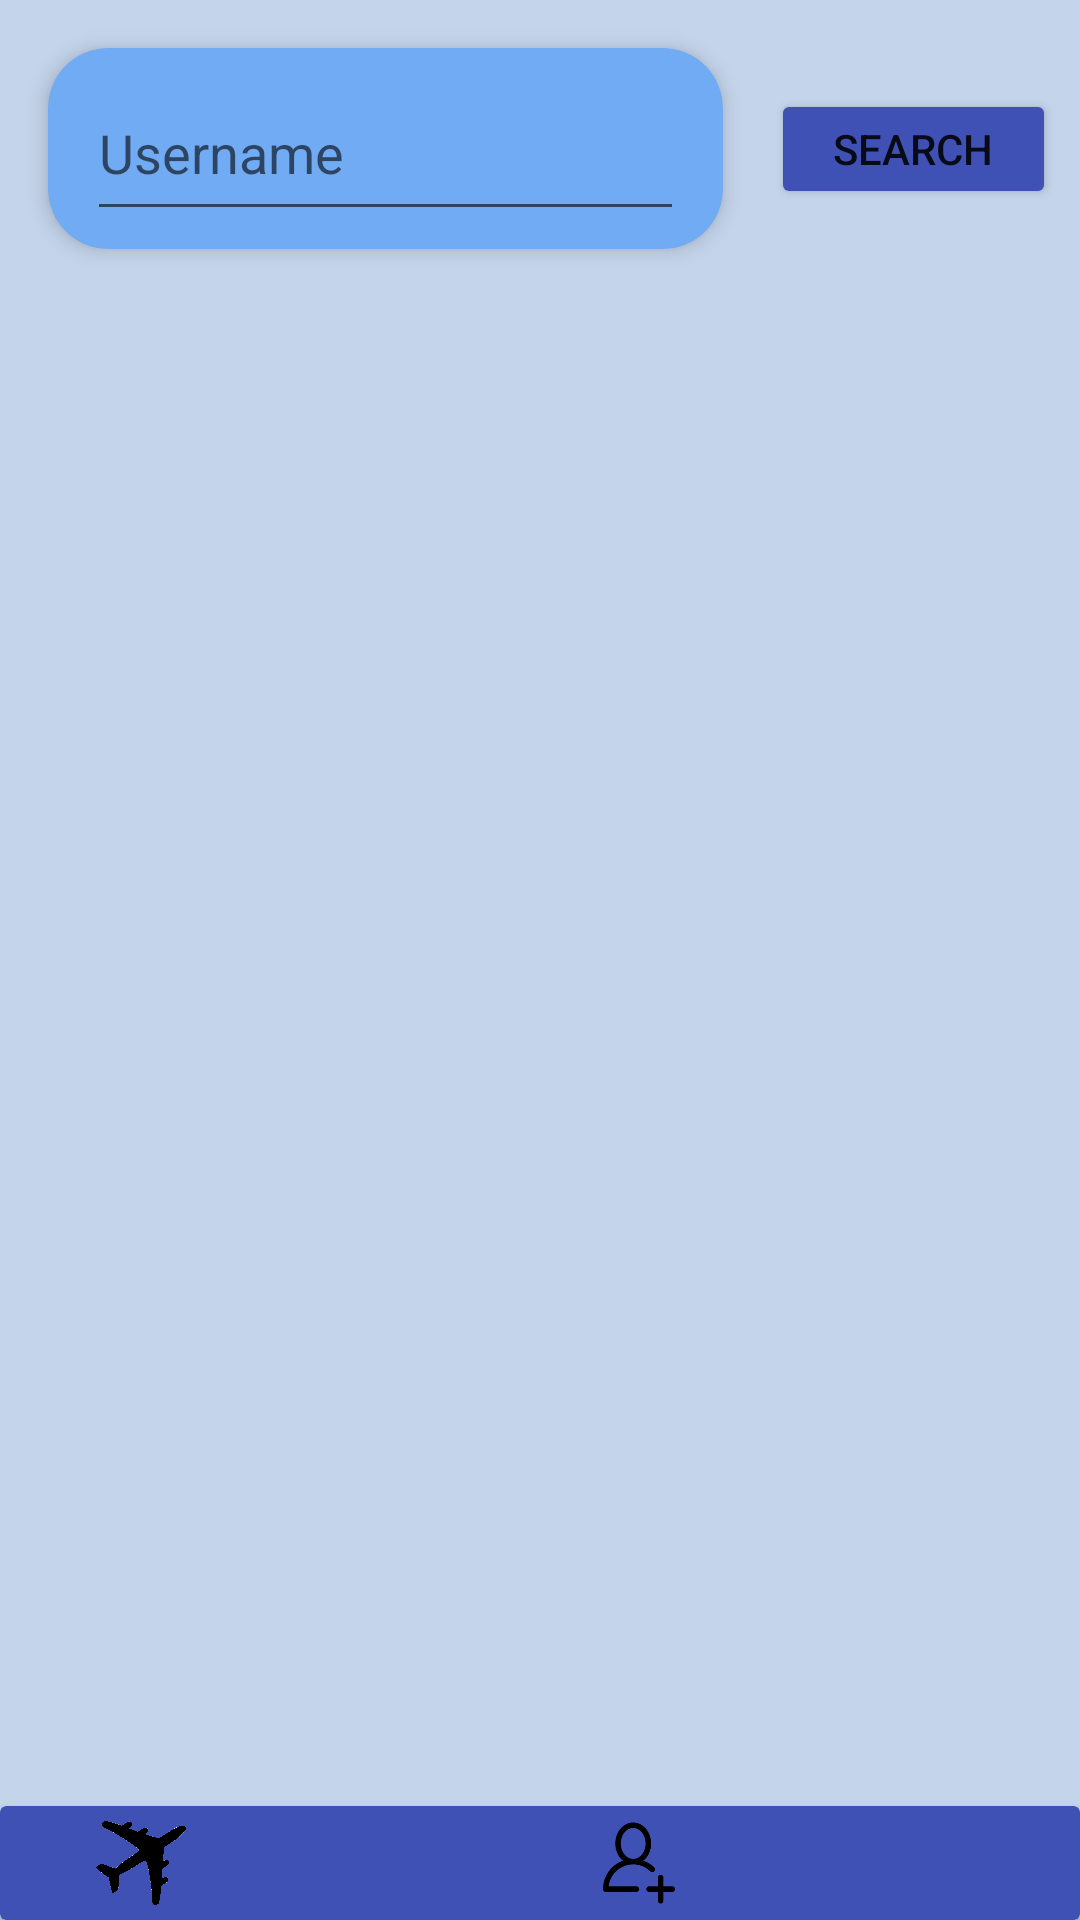

Locate icon controls on the screen. Image size 1080x1920, boxes as (x1, y1, x2, y2).
plane: (96, 1821, 186, 1905)
